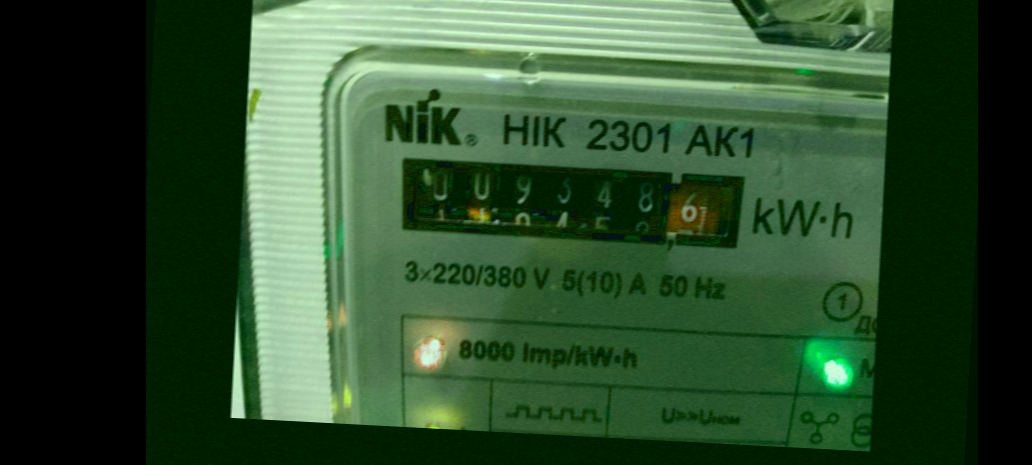0: (469, 165, 492, 202), (428, 165, 450, 201)
3: (551, 170, 575, 203)
4: (591, 172, 614, 210)
6: (677, 187, 701, 222)
8: (634, 177, 655, 212)
9: (512, 168, 532, 203)
screen: (374, 140, 764, 262)
